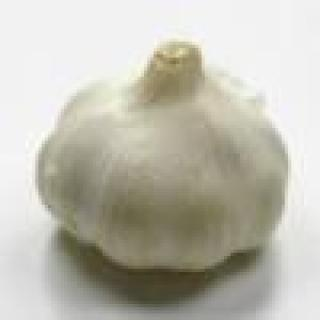Bawang Putih: (33, 43, 295, 267)
